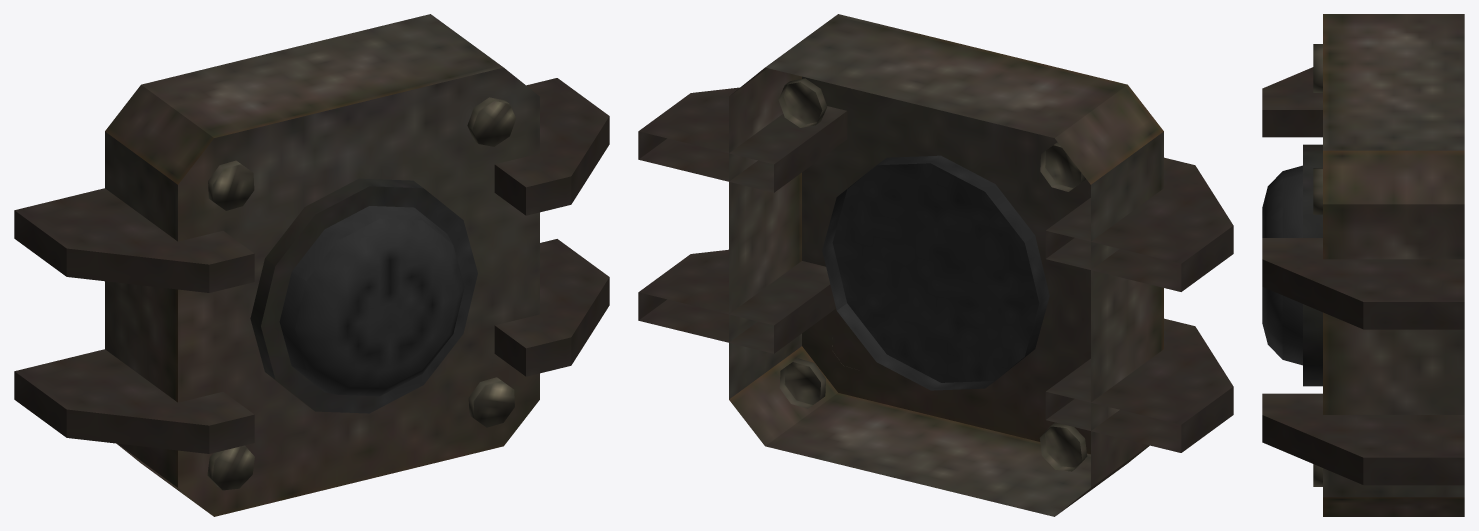
The model's file is button_etx_black_2.obj.
3 views of the same model, side by side, from view 1: azimuth 30°, elevation 25°; view 2: azimuth 150°, elevation 25°; view 3: azimuth 270°, elevation 25° (orthographic). The views are drawn at different scales.
Visible parts, largest first — view 1: button_etx_black_2, button_etx_black_2_child; view 2: button_etx_black_2; view 3: button_etx_black_2, button_etx_black_2_child.
Part boxes in pixels (box(x1,y1,x2,y2)): button_etx_black_2: box(14, 14, 609, 516); button_etx_black_2_child: box(279, 206, 464, 396); button_etx_black_2: box(638, 14, 1233, 516); button_etx_black_2: box(1262, 14, 1464, 516); button_etx_black_2_child: box(1262, 165, 1302, 365).
Size of the model in its own units: 0.216 by 0.144 by 0.072.
